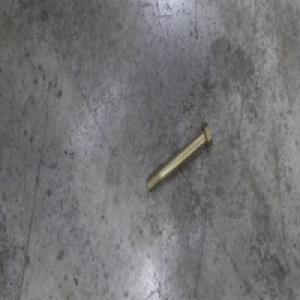Bolt: (145, 120, 213, 193)
